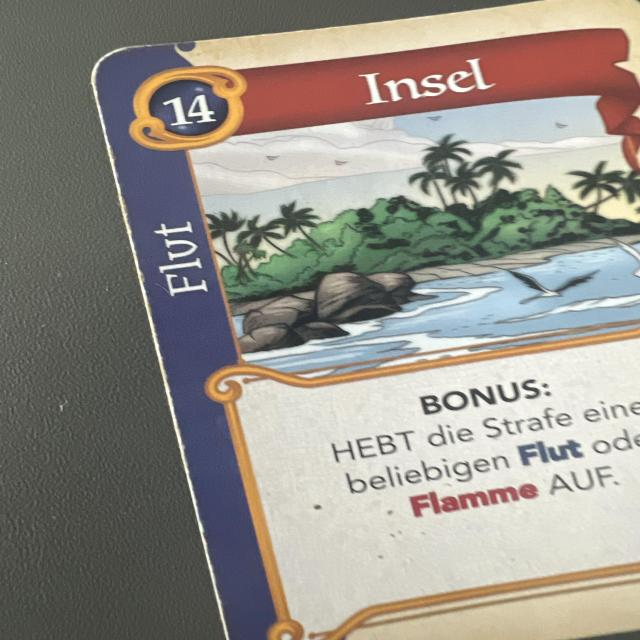Island: (87, 0, 640, 640)
